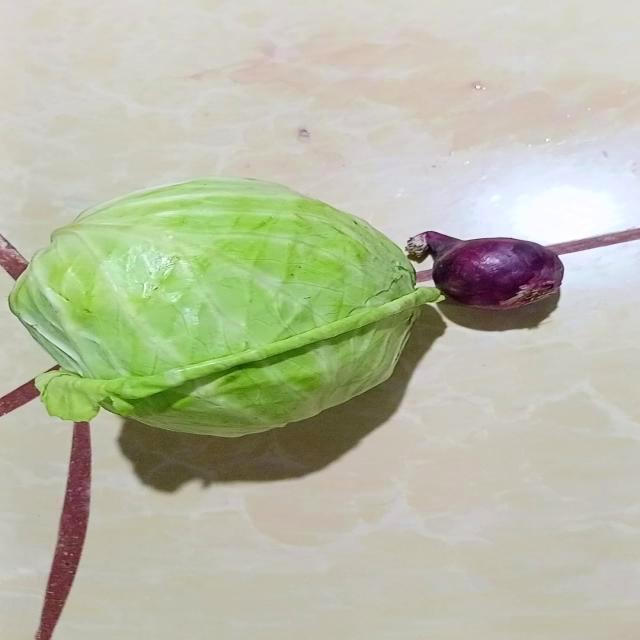cabbage: (23, 179, 445, 439)
onion: (403, 232, 566, 314)
